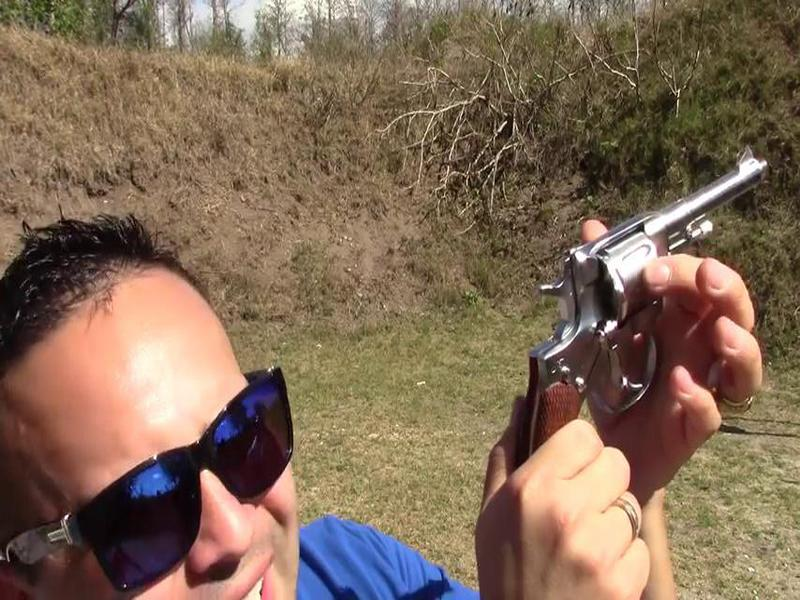Revolver: (500, 139, 787, 466)
